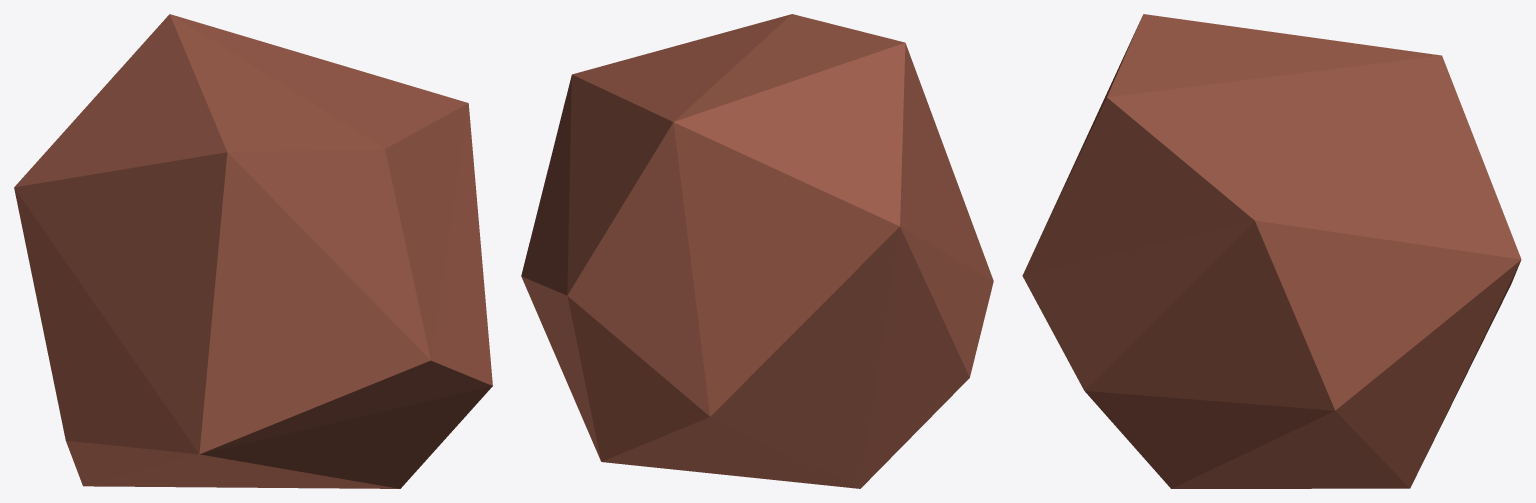
Rendered from Roca_sin_incrustaciones.fbx.
The picture shows the model from 3 angles, left to right: view 1: azimuth 30°, elevation 25°; view 2: azimuth 150°, elevation 25°; view 3: azimuth 270°, elevation 25°; orthographic projection. The views are drawn at different scales.
Parts seen in each view (by area): view 1: Roca; view 2: Roca; view 3: Roca.
Boxes of the visible parts, x1=… form: Roca: x1=14, y1=14, x2=492, y2=488; Roca: x1=521, y1=14, x2=993, y2=488; Roca: x1=1022, y1=14, x2=1521, y2=488.
Size of the model in its own units: 192 by 171 by 199.
